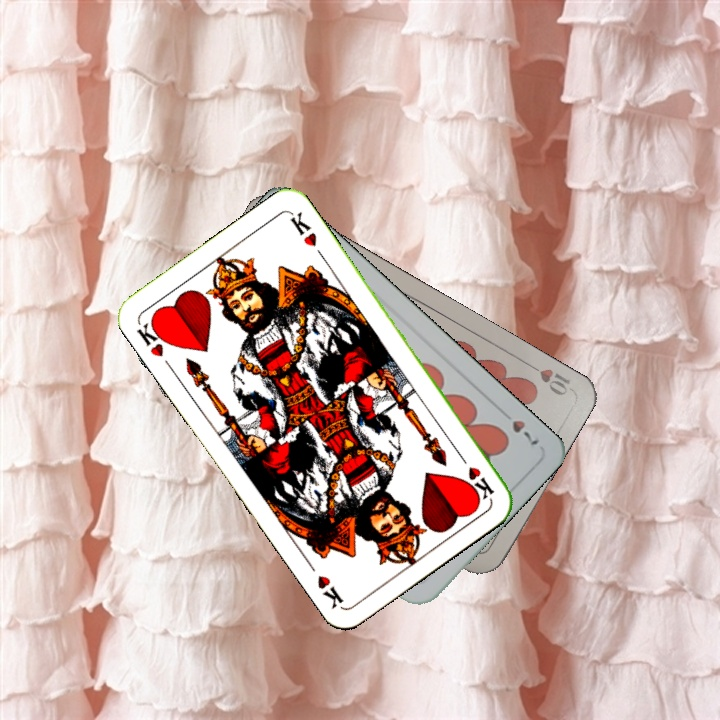H10: (520, 357, 574, 399)
H7: (495, 404, 542, 450)
HK: (454, 449, 497, 503), (132, 314, 173, 360)
